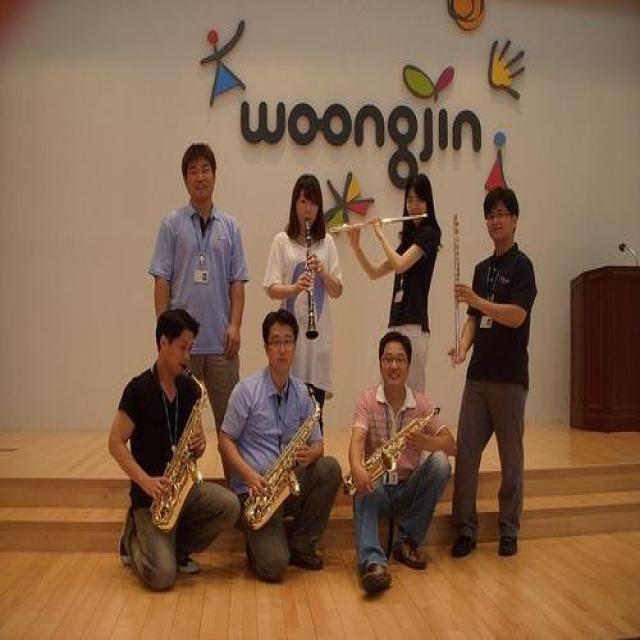clarinet: (297, 214, 325, 346)
saxophone: (240, 377, 325, 532), (146, 358, 213, 536), (338, 401, 443, 502)
